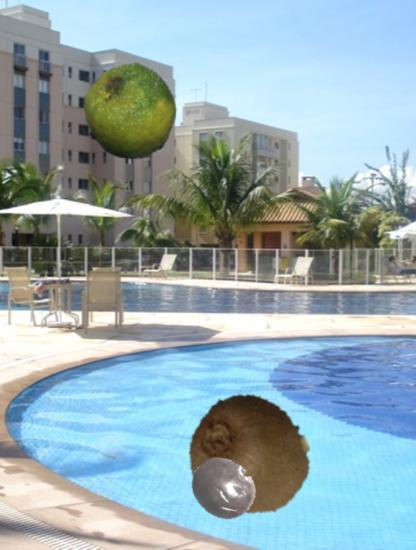Kiwi: (185, 392, 312, 519)
Limes: (82, 64, 179, 161)
Passion: (190, 455, 258, 523)
